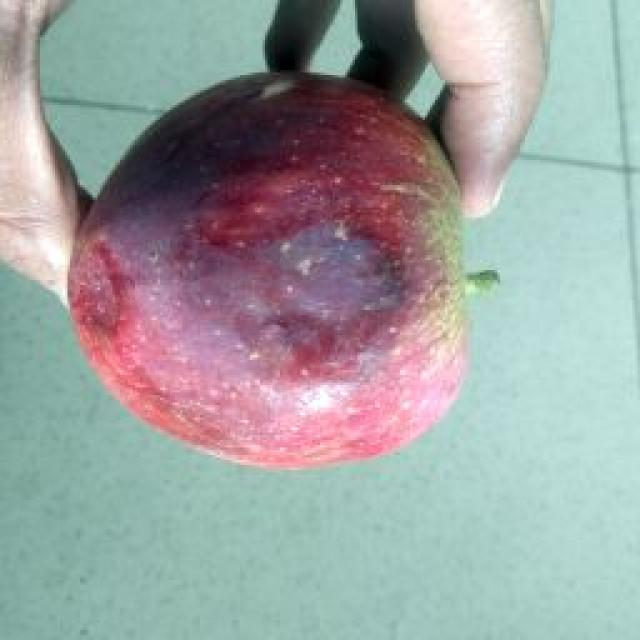Bad_Apple: (69, 72, 468, 466)
